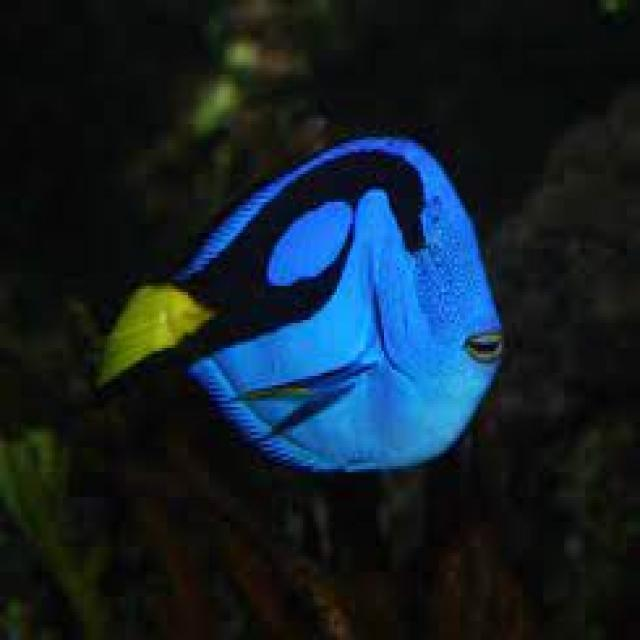TangFish: (92, 138, 504, 472)
